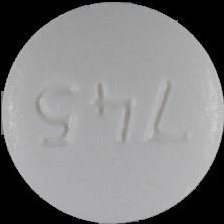64205-745: (0, 0, 224, 224)
